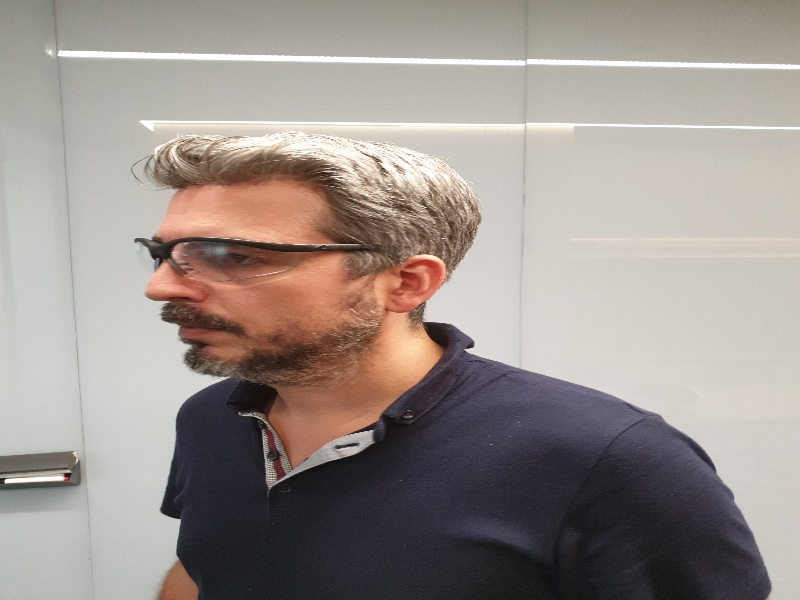Gozluk: (132, 233, 383, 280)
